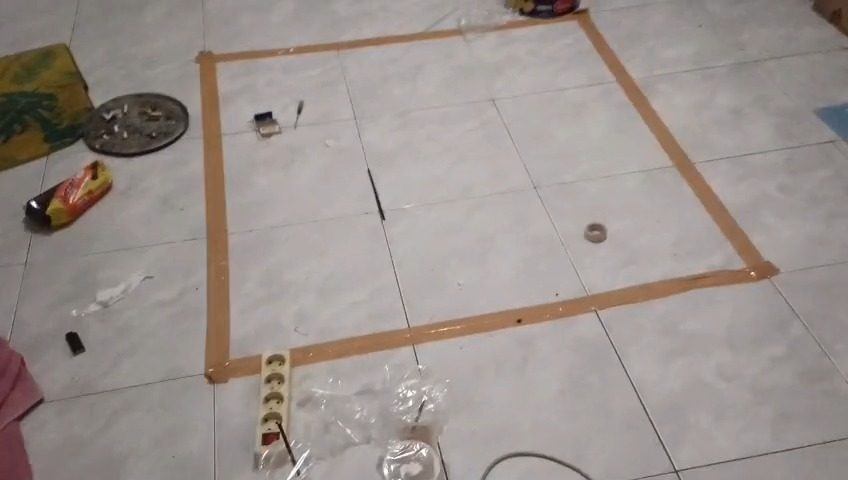floor marking: (291, 13, 778, 365), (197, 29, 460, 383)
